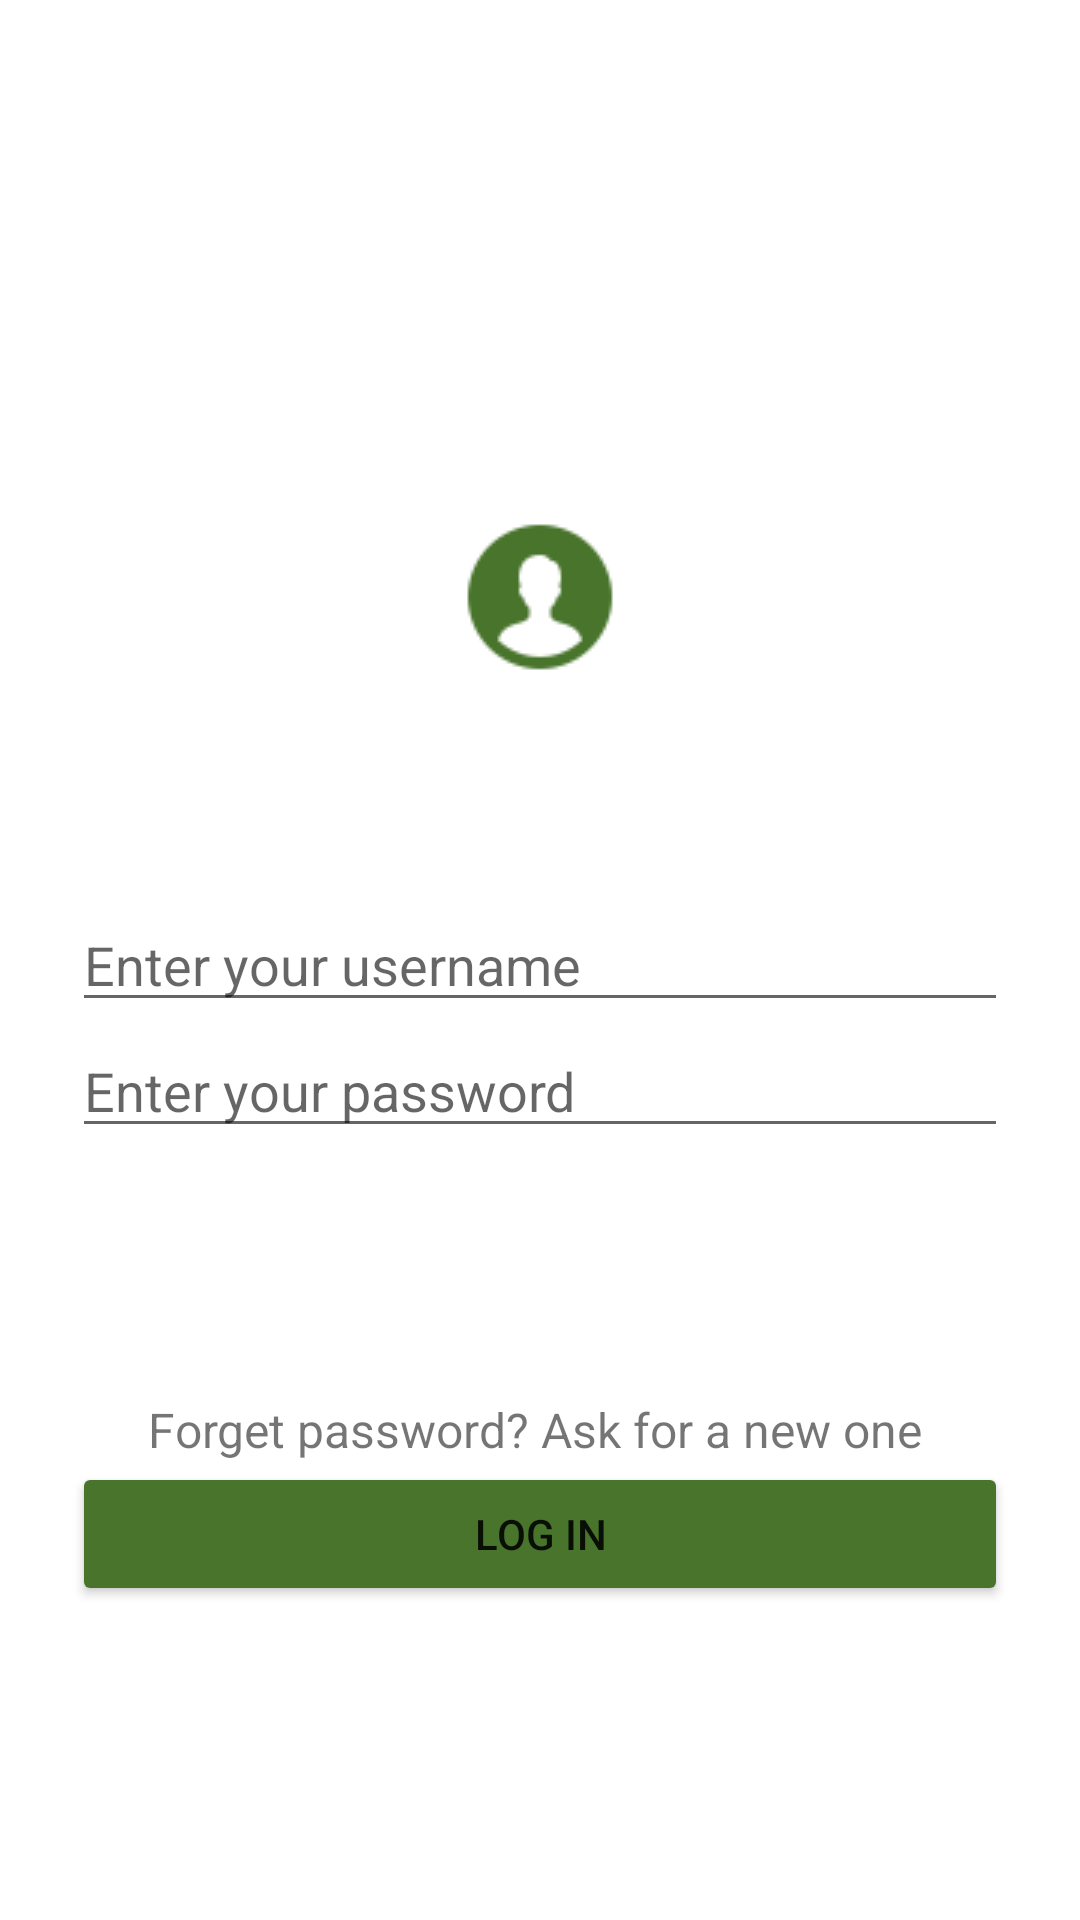

Locate icon controls on the screen. Image size 1080 x 1920, boxes as (x1, y1, x2, y2).
user: (467, 524, 613, 670)
